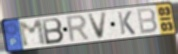B: (40, 17, 65, 46), (136, 7, 159, 35)
K: (116, 10, 137, 36)
M: (17, 18, 49, 49)
R: (66, 14, 92, 44)
V: (87, 11, 109, 41)
